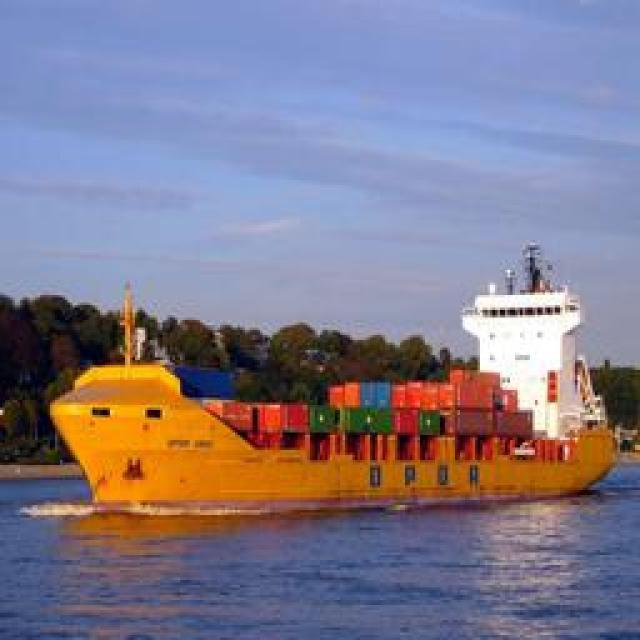CIV_Ship: (35, 327, 625, 515)
